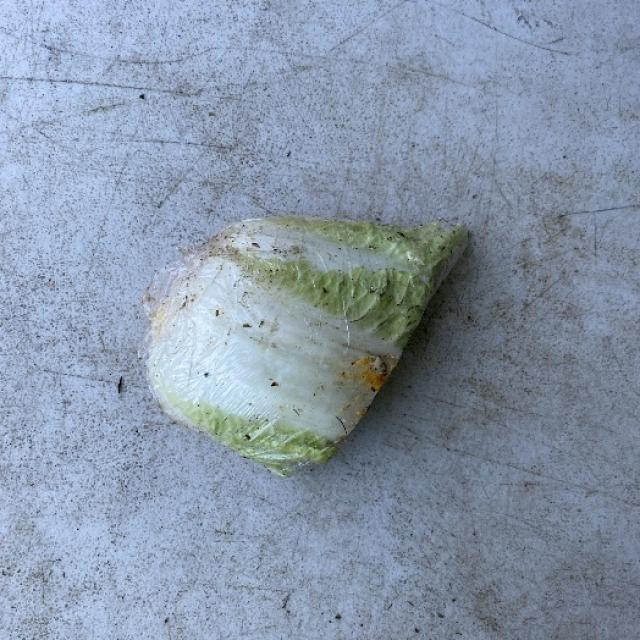organik: (149, 221, 461, 477)
